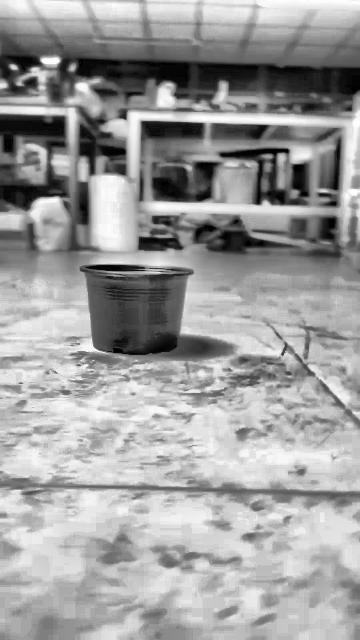pot: (80, 262, 193, 353)
